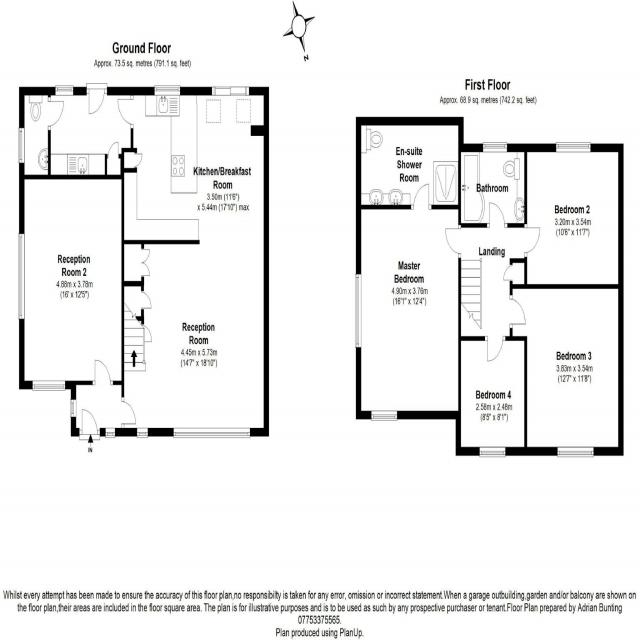DOOR: (116, 96, 135, 128), (443, 226, 462, 257), (508, 298, 528, 327), (87, 86, 106, 116), (523, 225, 542, 255), (488, 200, 506, 231), (486, 335, 505, 364), (47, 99, 65, 129), (412, 182, 430, 212), (94, 358, 112, 387), (121, 399, 137, 426)
ROOM: (120, 85, 270, 437), (354, 182, 462, 421), (18, 174, 125, 391), (509, 283, 624, 457), (524, 142, 624, 290), (19, 83, 133, 180), (455, 335, 528, 457)
WINDOW: (173, 427, 251, 439), (354, 272, 363, 349), (18, 232, 25, 320), (555, 140, 592, 154), (556, 446, 595, 459), (81, 408, 99, 436), (32, 380, 66, 392), (478, 445, 507, 459), (370, 409, 399, 422), (482, 140, 508, 154), (154, 84, 181, 96), (18, 126, 25, 164), (55, 84, 74, 97), (69, 398, 77, 418), (136, 427, 149, 439), (105, 427, 116, 439)
